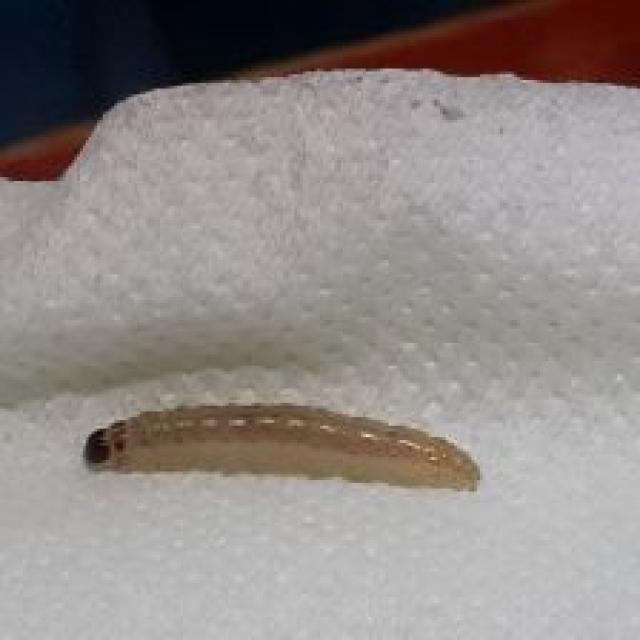white mucus: (66, 390, 487, 503)
